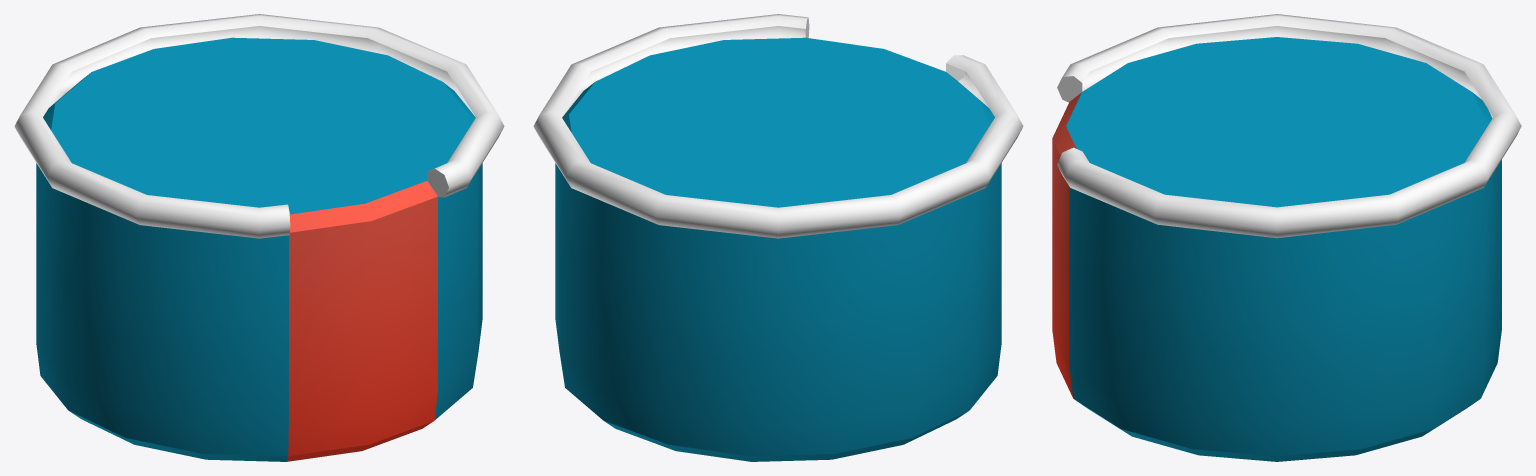
The model's file is Body_Dress_09.fbx.
The picture shows the model from 3 angles, left to right: view 1: azimuth 30°, elevation 25°; view 2: azimuth 150°, elevation 25°; view 3: azimuth 270°, elevation 25°; orthographic projection.
Parts seen in each view (by area): view 1: Body_Dress_09; view 2: Body_Dress_09; view 3: Body_Dress_09.
Boxes of the visible parts, bbox=[...] form: Body_Dress_09: bbox=[14, 14, 504, 461]; Body_Dress_09: bbox=[533, 14, 1023, 461]; Body_Dress_09: bbox=[1052, 14, 1521, 461].
Size of the model in its own units: 109 by 64.65 by 104.
